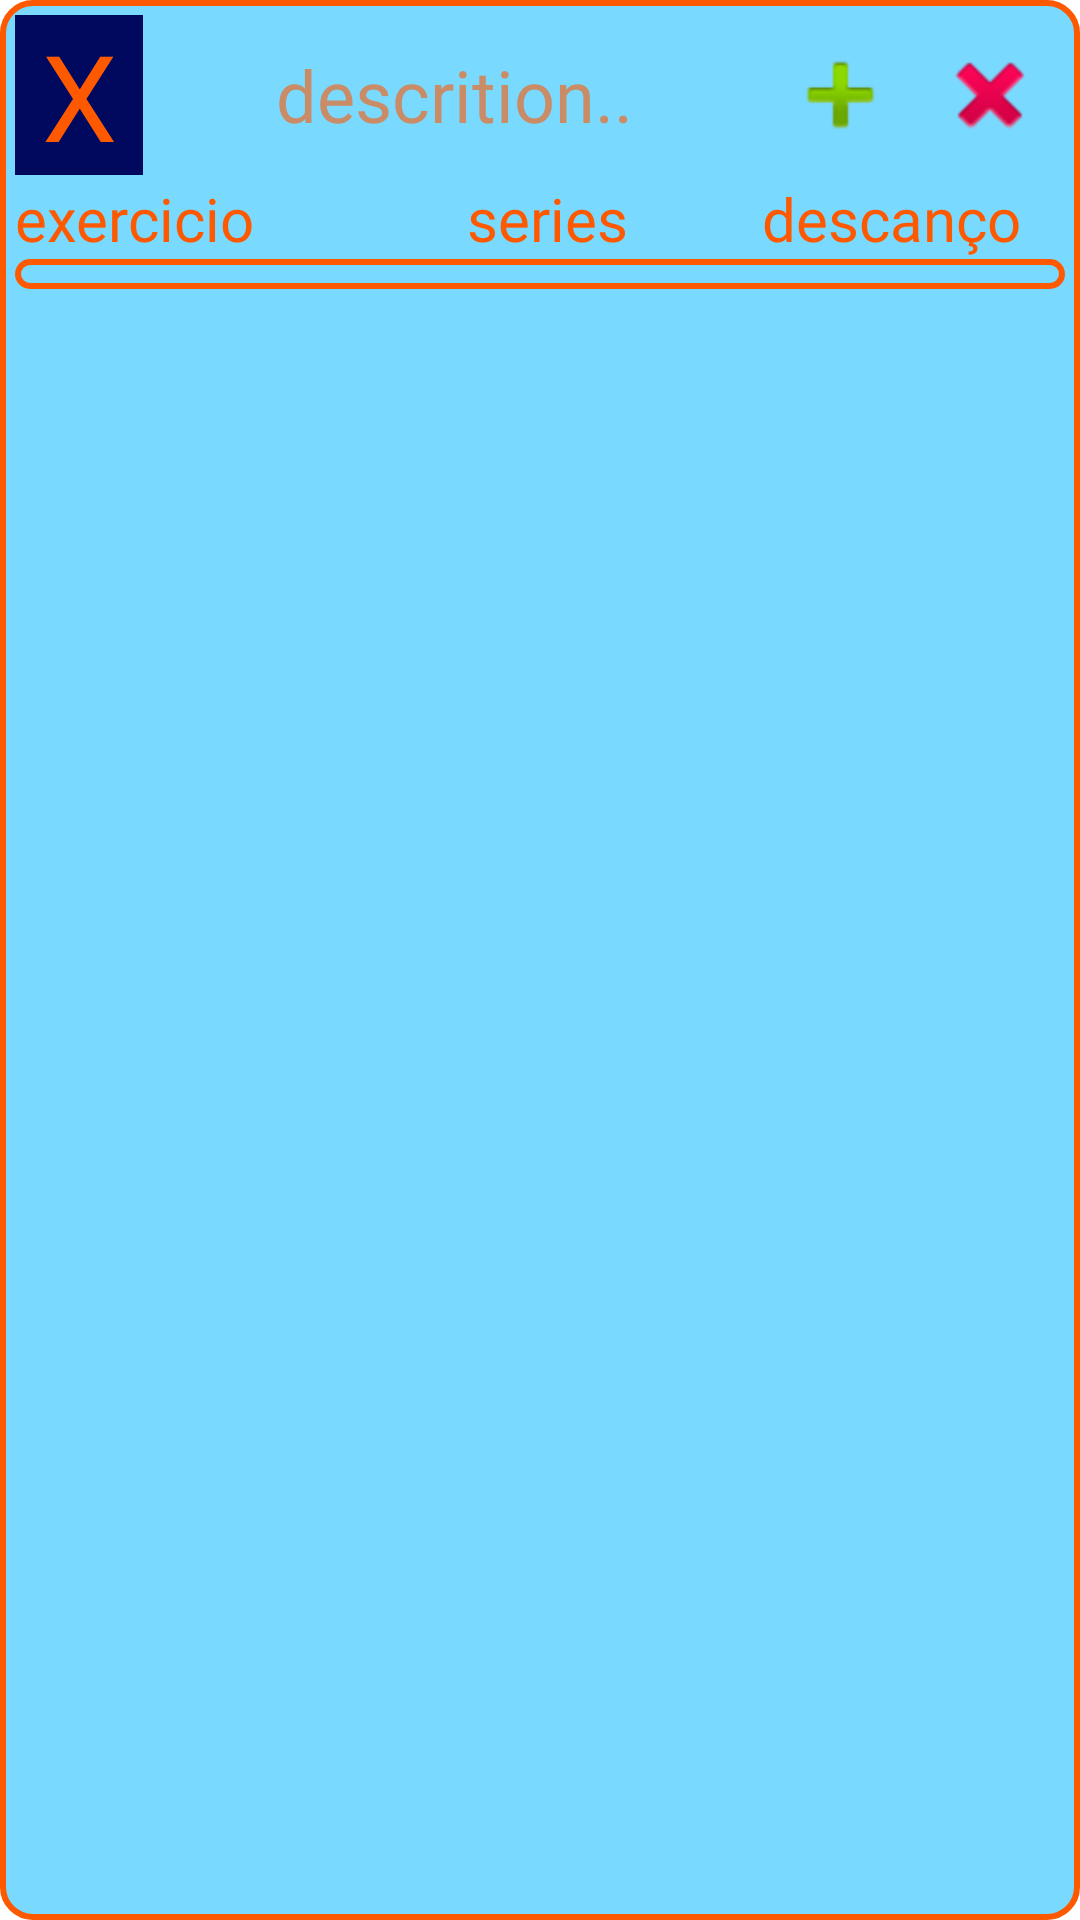

Screen size 1080 x 1920. Icon name, then its box in pixels as (x1=x1, y1=y1, x2=x2, y2=y2):
add: (x1=806, y1=61, x2=875, y2=129)
delete: (x1=956, y1=62, x2=1024, y2=129)
